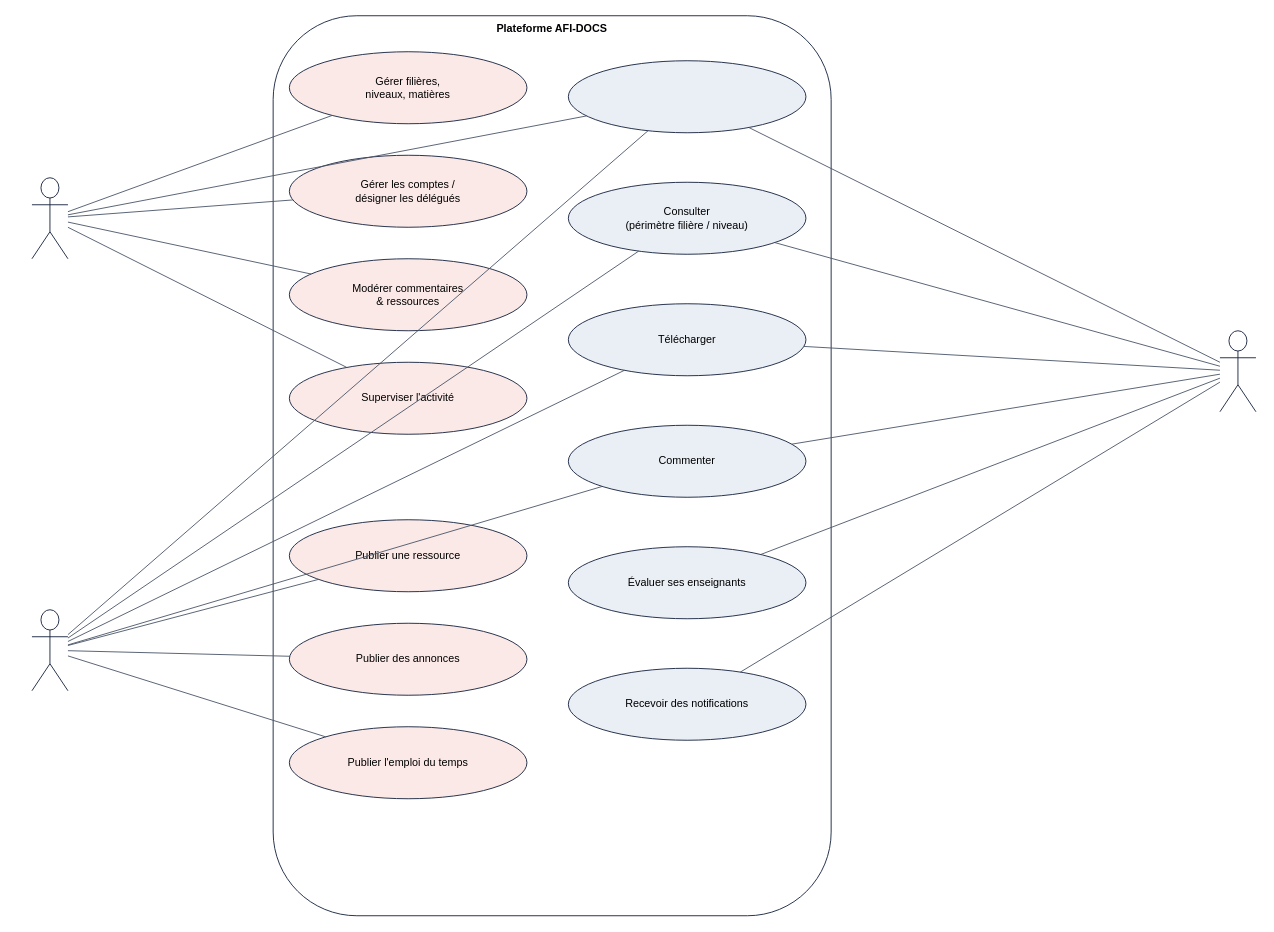
This 1274x932 diagram has some shape labels left out. Here are the shapes that lost their labels. From the top down, the centre of each, then its label:
At (686,96): "S'authentifier".
At (49,218): "Administrateur".
At (1237,371): "Étudiant".
At (49,650): "Délégué".
